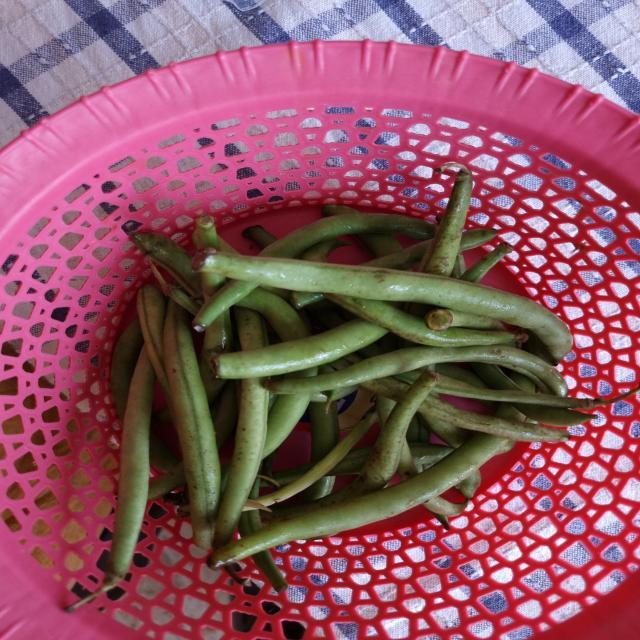Beans: (193, 251, 574, 361), (207, 433, 508, 570), (64, 346, 155, 614), (265, 345, 568, 395), (163, 300, 220, 551), (246, 409, 378, 510), (325, 294, 525, 347), (212, 378, 269, 550), (259, 213, 437, 258), (434, 375, 639, 410), (418, 395, 570, 442), (193, 280, 259, 331), (233, 306, 266, 350), (360, 377, 408, 401), (393, 371, 419, 384)
